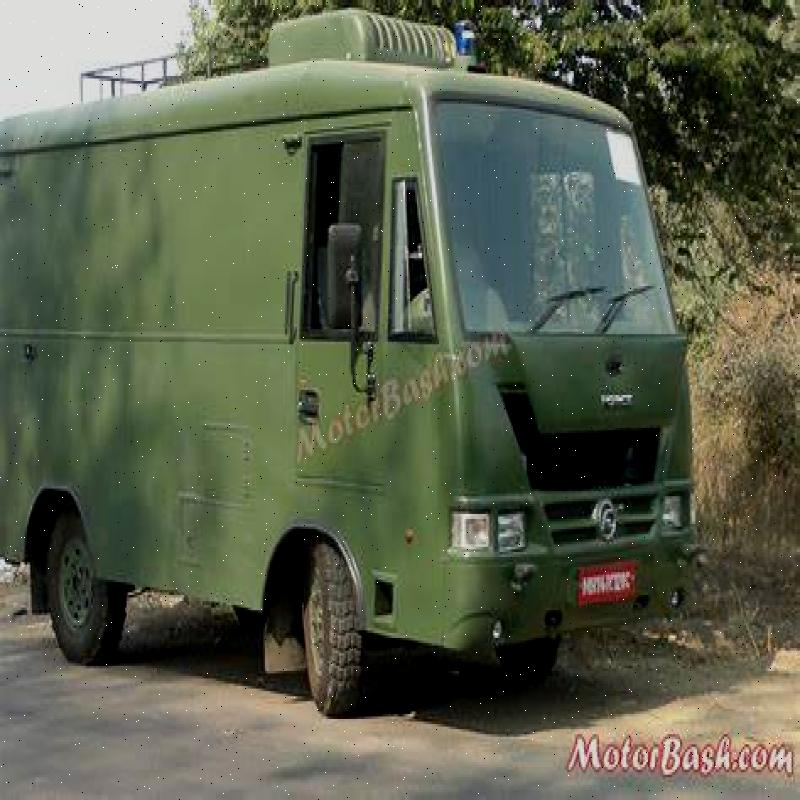AmbulanceSiren: (453, 10, 481, 84)
